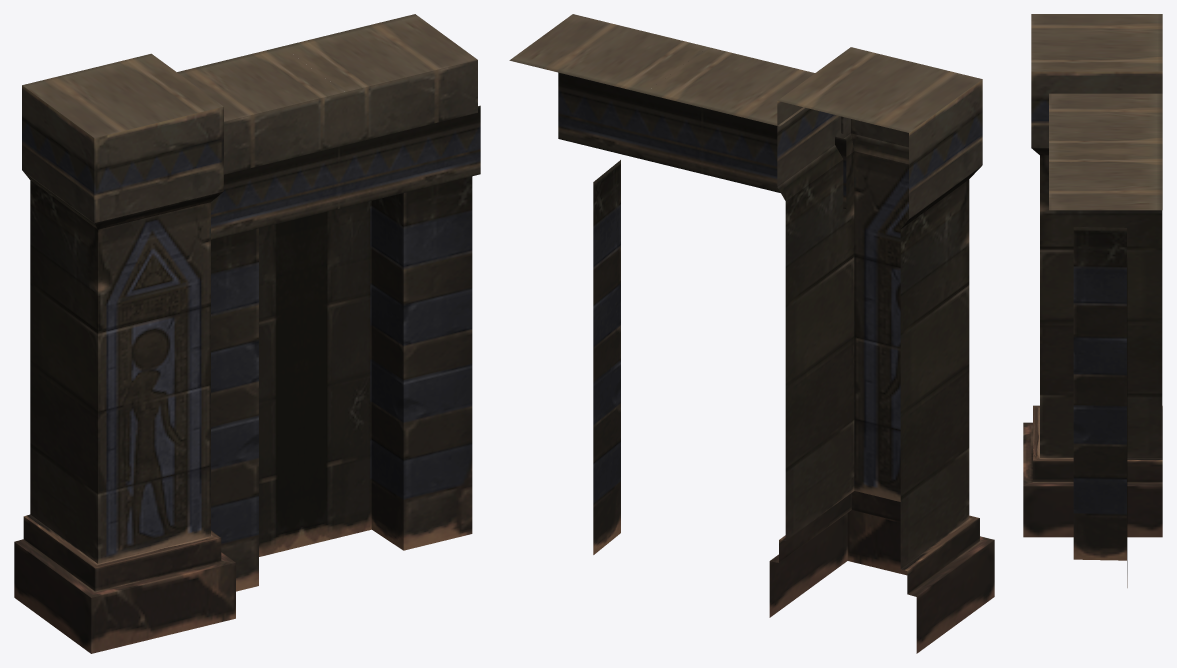
Rendered from common_yewai_shamodaqiang.FBX.
The picture shows the model from 3 angles, left to right: view 1: azimuth 30°, elevation 25°; view 2: azimuth 150°, elevation 25°; view 3: azimuth 270°, elevation 25°; orthographic projection. The views are drawn at different scales.
Visible parts, largest first — view 1: common_yewai_shamodaqiang; view 2: common_yewai_shamodaqiang; view 3: common_yewai_shamodaqiang.
Part boxes in pixels (<box>): common_yewai_shamodaqiang: <box>14,14,480,653</box>; common_yewai_shamodaqiang: <box>509,14,994,653</box>; common_yewai_shamodaqiang: <box>1023,14,1162,587</box>.
Size of the model in its own units: 8.78 by 2.86 by 10.47.
